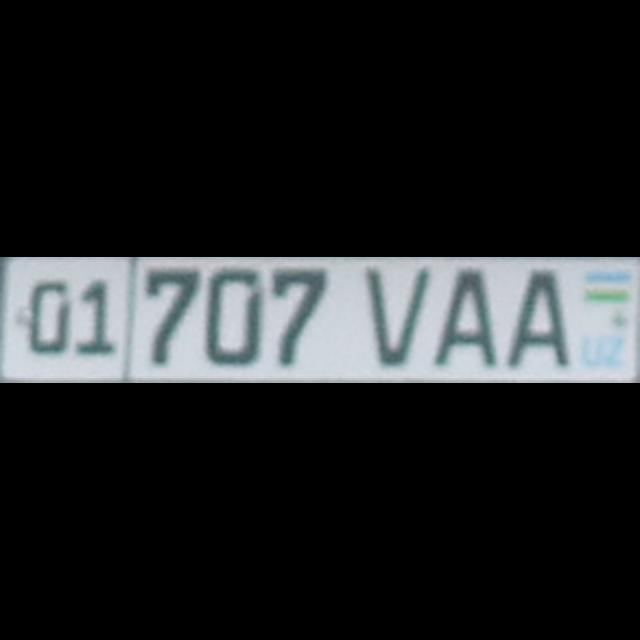0: (202, 268, 258, 364), (26, 281, 70, 353)
1: (74, 279, 114, 353)
7: (270, 268, 326, 364), (144, 268, 198, 364)
A: (504, 268, 568, 366), (432, 268, 496, 364)
V: (364, 266, 428, 364)
